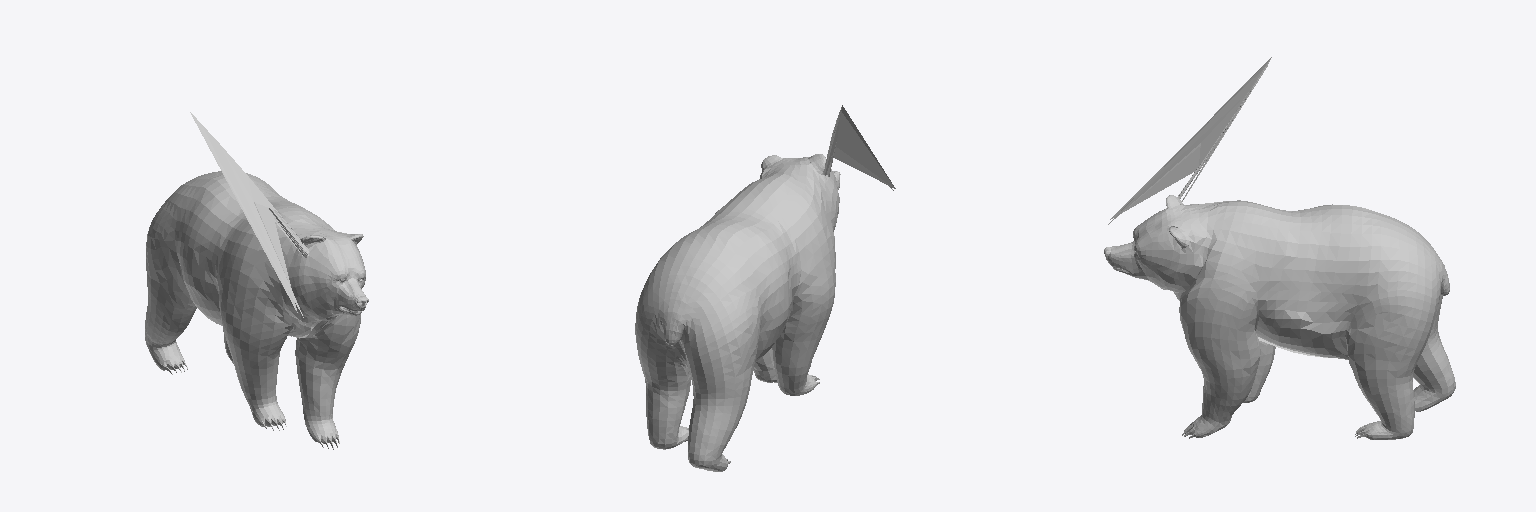
File: Bear0042.obj
The picture shows the model from 3 angles: view 1: azimuth 30°, elevation 25°; view 2: azimuth 150°, elevation 25°; view 3: azimuth 270°, elevation 25°; orthographic projection.
Parts seen in each view (by area): view 1: Object_237; view 2: Object_237; view 3: Object_237.
Boxes of the visible parts, x1,y1,x2,y2 form: Object_237: [145, 112, 368, 449]; Object_237: [635, 105, 895, 471]; Object_237: [1104, 57, 1455, 439].
Bounding box in the file's own units: 2.29 × 5.12 × 4.93.